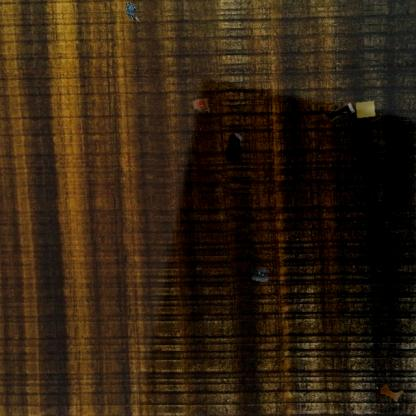dirty: (323, 101, 356, 123), (354, 99, 377, 120), (124, 0, 142, 24), (191, 96, 212, 114), (250, 267, 270, 284)
liquid: (223, 132, 244, 163), (379, 383, 405, 403)
